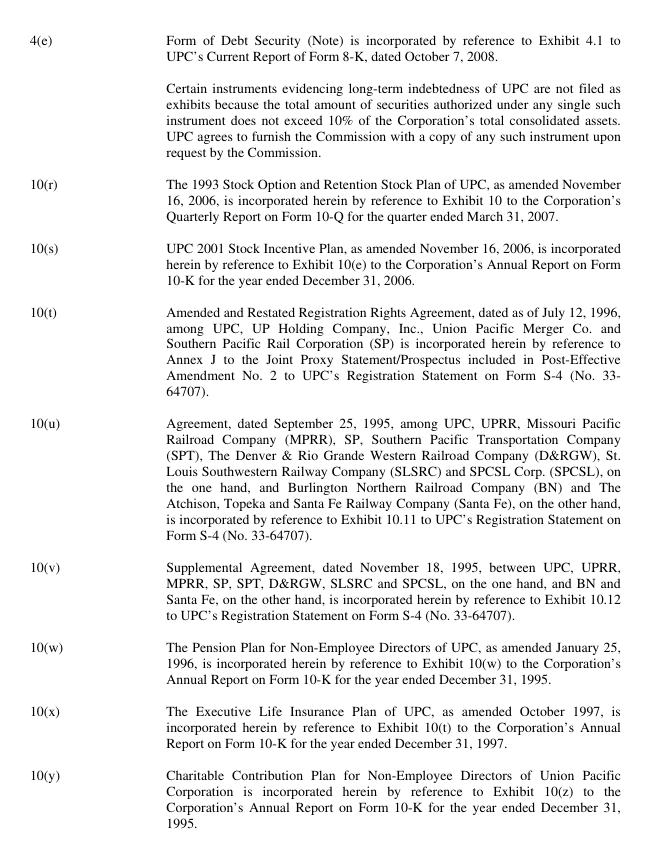table: (28, 29, 619, 830)
table column: (113, 29, 619, 830), (28, 29, 113, 830)
table row: (28, 406, 619, 549), (28, 294, 619, 406), (28, 70, 619, 166), (28, 549, 619, 629), (28, 757, 619, 830), (28, 166, 619, 230), (28, 230, 619, 294), (28, 629, 619, 693), (28, 693, 619, 757), (28, 29, 619, 70)
table spanning cell: (28, 29, 113, 166)
